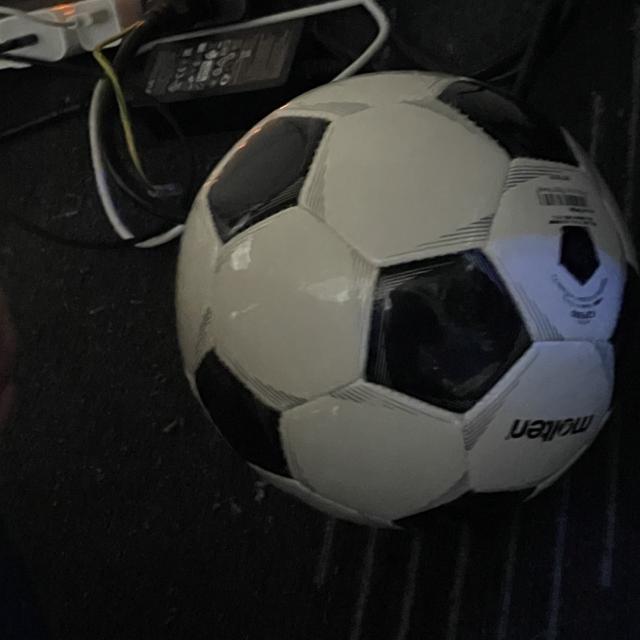ball: (173, 68, 640, 536)
